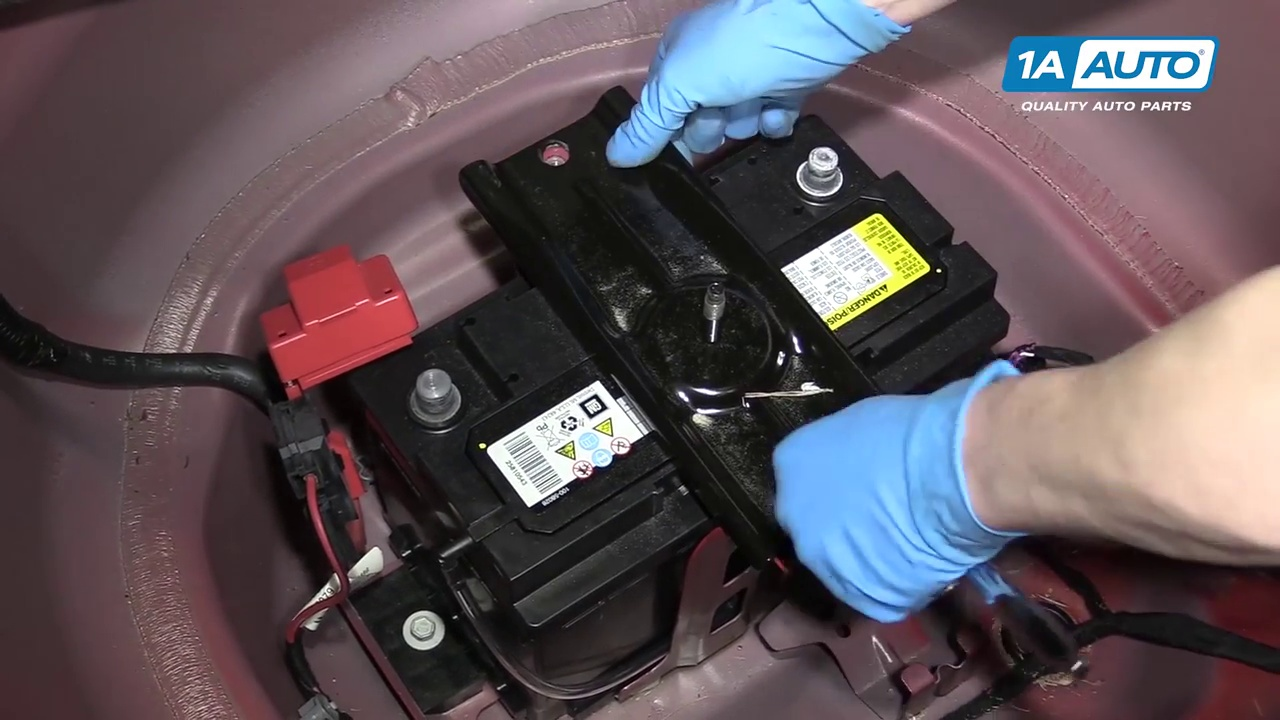battery: (348, 121, 1009, 577)
neg_disconnected: (779, 142, 870, 213)
pos_disconnected: (262, 249, 469, 432)
